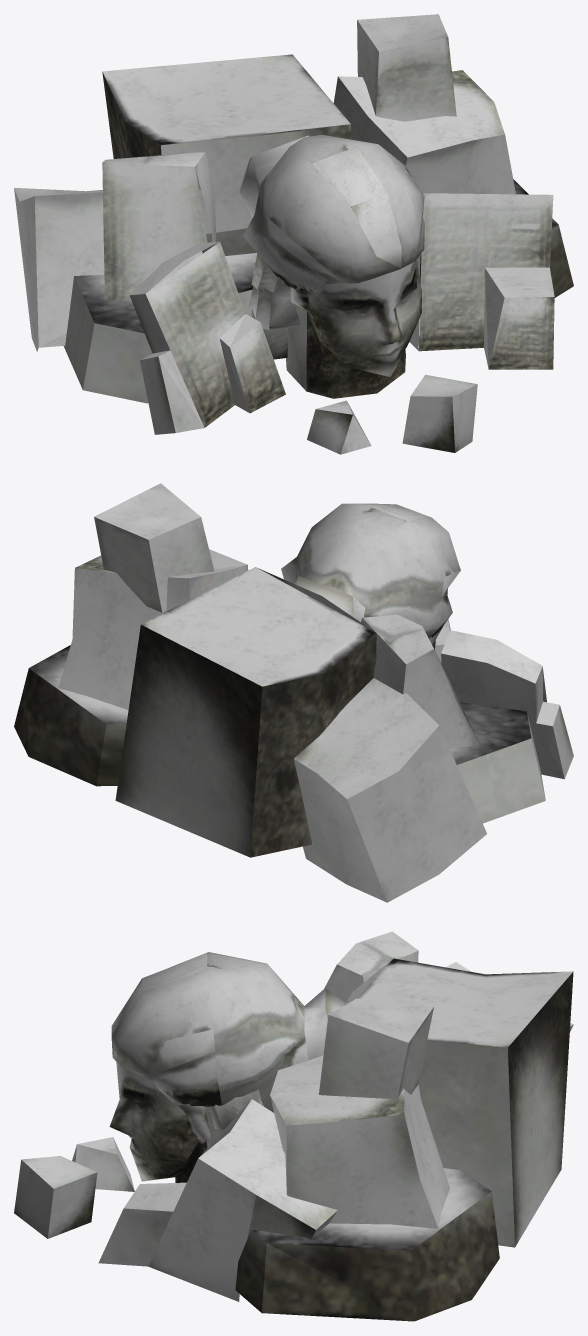
The model's file is ob-bigstatue01_lod_01.fbx.
The picture shows the model from 3 angles, top to bottom: view 1: azimuth 30°, elevation 25°; view 2: azimuth 150°, elevation 25°; view 3: azimuth 270°, elevation 25°; orthographic projection. The views are drawn at different scales.
Visible parts, largest first — view 1: ob-bigstatue01-01, ob-bigstatue01-02; view 2: ob-bigstatue01-01, ob-bigstatue01-02; view 3: ob-bigstatue01-01, ob-bigstatue01-02.
Part boxes in pixels (<box>): ob-bigstatue01-01: <box>14,14,554,454</box>; ob-bigstatue01-02: <box>74,37,573,427</box>; ob-bigstatue01-01: <box>58,483,573,902</box>; ob-bigstatue01-02: <box>14,567,546,857</box>; ob-bigstatue01-01: <box>14,931,573,1301</box>; ob-bigstatue01-02: <box>199,958,573,1321</box>.
Size of the model in its own units: 11.2 by 6.4 by 10.85.
